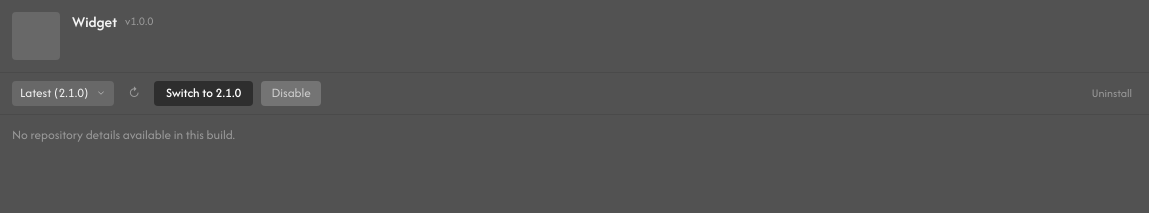
Test: ExtensionDetail version picker › blocks a release whose manifest disagrees with its tag
The width and height of the screenshot is (1149, 213).
Click the dropdown named "Version": (63, 93) [12, 81, 114, 106]
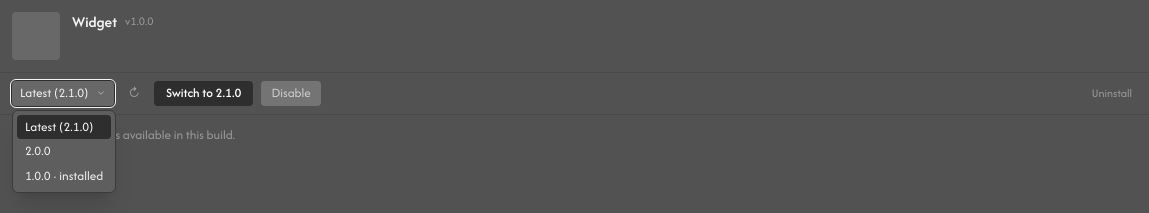
Click the option "2.0.0": (38, 150) [25, 142, 51, 159]
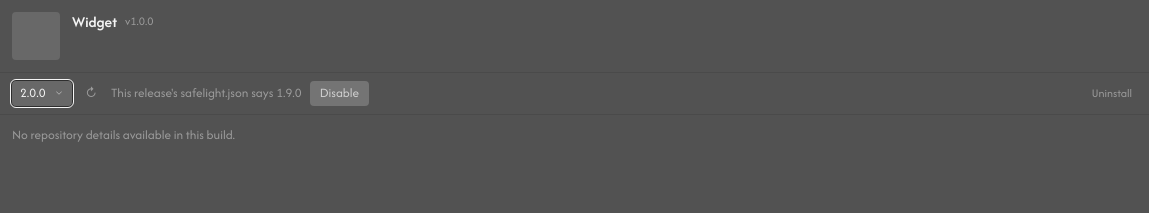
Expected: the text "This release's safelight.json says 1.9.0" is shown, [111, 85, 302, 102]
